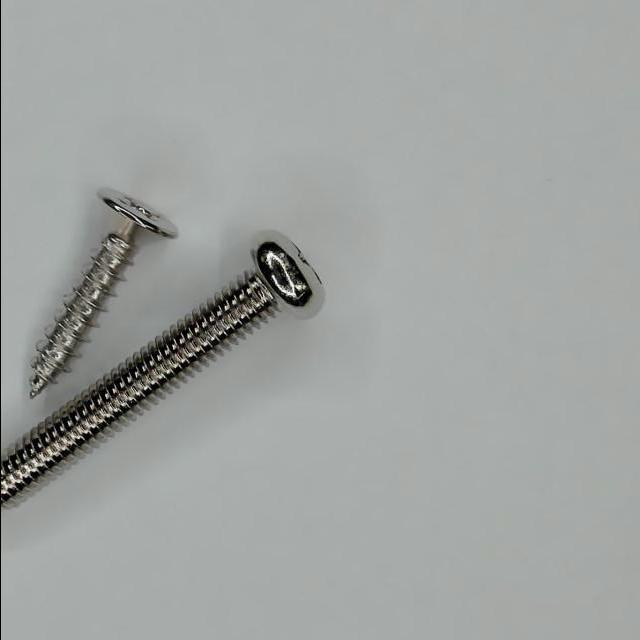Screw: (0, 231, 324, 502), (29, 188, 177, 398)
